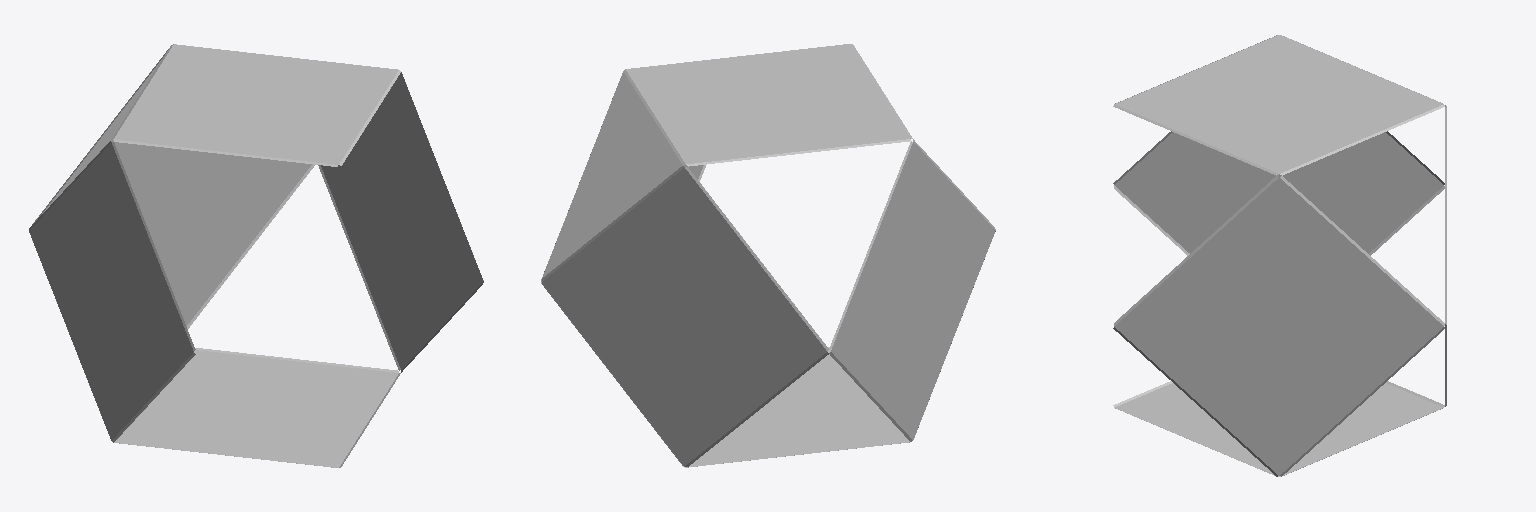
File: oolite_coriolis.obj
3 views of the same model, side by side, from view 1: azimuth 30°, elevation 25°; view 2: azimuth 150°, elevation 25°; view 3: azimuth 270°, elevation 25° (orthographic).
Visible parts, largest first — view 1: oolite_coriolis.obj; view 2: oolite_coriolis.obj; view 3: oolite_coriolis.obj.
Boxes of the visible parts, x1=… form: oolite_coriolis.obj: x1=29, y1=44, x2=483, y2=467; oolite_coriolis.obj: x1=541, y1=44, x2=995, y2=467; oolite_coriolis.obj: x1=1113, y1=35, x2=1446, y2=476.
Bounding box in the file's own units: 1000 × 1000 × 996.